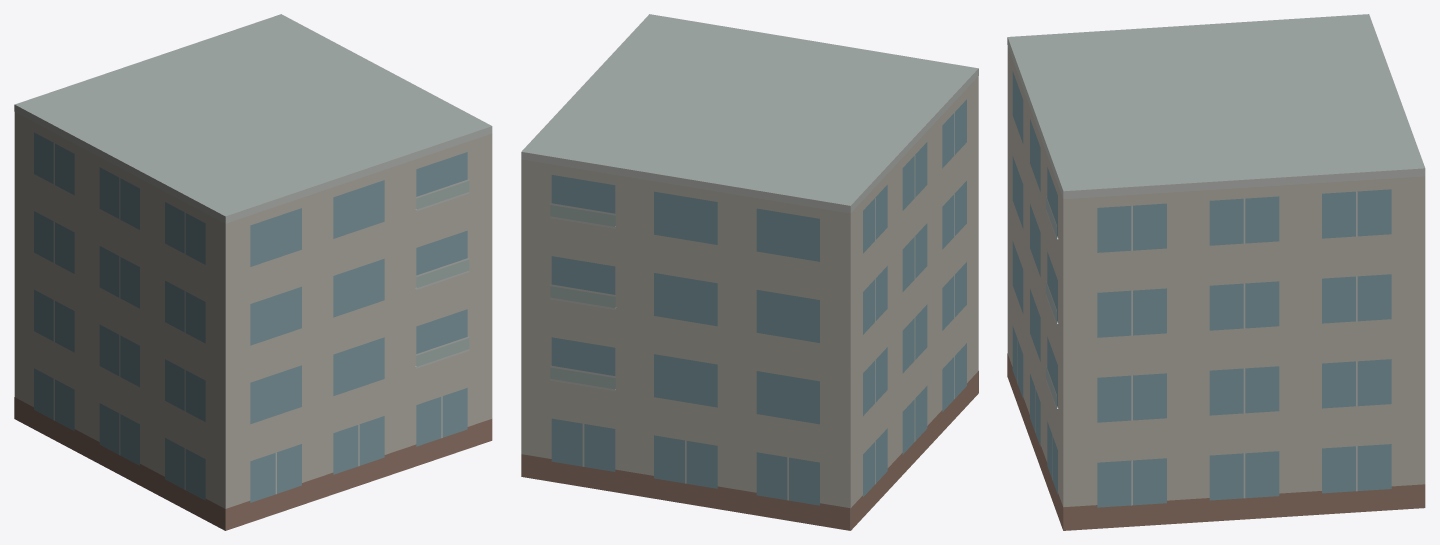
File: survey-upis-32538598.glb
3 views of the same model, side by side, from view 1: azimuth 30°, elevation 25°; view 2: azimuth 150°, elevation 25°; view 3: azimuth 270°, elevation 25° (orthographic). The views are drawn at different scales.
Parts seen in each view (by area): view 1: survey-upis-32538598.tmp; view 2: survey-upis-32538598.tmp; view 3: survey-upis-32538598.tmp.
Boxes of the visible parts, x1,y1,x2,y2 form: survey-upis-32538598.tmp: (14, 14, 492, 530); survey-upis-32538598.tmp: (521, 14, 978, 530); survey-upis-32538598.tmp: (1007, 14, 1425, 530).
Size of the model in its own units: 11.76 by 10.5 by 11.72.
